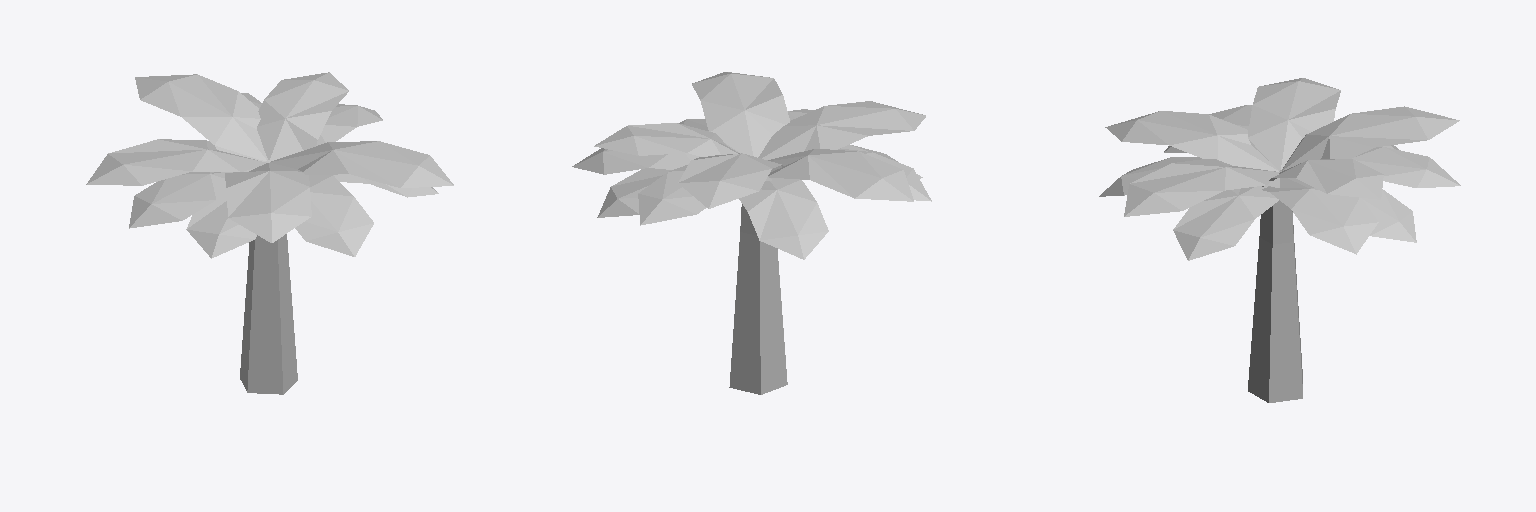
Rendered from tree.obj.
3 renders of one model, left to right at view 1: azimuth 30°, elevation 25°; view 2: azimuth 150°, elevation 25°; view 3: azimuth 270°, elevation 25°, orthographic.
Visible parts, largest first — view 1: initialShadingGroup polySurface36 polySurface229 polySurface344 , initialShadingGroup polySurface335 polySurface1 polySurface371, initialShadingGroup polySurface335 polySurface1 polySurface374, initialShadingGroup polySurface335 polySurface1 polySurface370, initialShadingGroup polySurface335 polySurface1 polySurface373, initialShadingGroup polySurface335 polySurface1 polySurface372, initialShadingGroup polySurface335 polySurface1 polySurface362, initialShadingGroup polySurface335 polySurface1 polySurface357, initialShadingGroup polySurface335 polySurface1 polySurface377, initialShadingGroup polySurface335 polySurface1 polySurface355, initialShadingGroup polySurface335 polySurface1 polySurface376; view 2: initialShadingGroup polySurface36 polySurface229 polySurface344 , initialShadingGroup polySurface335 polySurface1 polySurface374, initialShadingGroup polySurface335 polySurface1 polySurface373, initialShadingGroup polySurface335 polySurface1 polySurface372, initialShadingGroup polySurface335 polySurface1 polySurface378, initialShadingGroup polySurface335 polySurface1 polySurface371, initialShadingGroup polySurface335 polySurface1 polySurface370, initialShadingGroup polySurface335 polySurface1 polySurface356, initialShadingGroup polySurface335 polySurface1 polySurface355, initialShadingGroup polySurface335 polySurface1 polySurface375, initialShadingGroup polySurface335 polySurface1 polySurface357; view 3: initialShadingGroup polySurface36 polySurface229 polySurface344 , initialShadingGroup polySurface335 polySurface1 polySurface372, initialShadingGroup polySurface335 polySurface1 polySurface371, initialShadingGroup polySurface335 polySurface1 polySurface373, initialShadingGroup polySurface335 polySurface1 polySurface374, initialShadingGroup polySurface335 polySurface1 polySurface376, initialShadingGroup polySurface335 polySurface1 polySurface355, initialShadingGroup polySurface335 polySurface1 polySurface370, initialShadingGroup polySurface335 polySurface1 polySurface356, initialShadingGroup polySurface335 polySurface1 polySurface375, initialShadingGroup polySurface335 polySurface1 polySurface362, initialShadingGroup polySurface335 polySurface1 polySurface357.
Boxes of the visible parts, x1,y1,x2,y2 form: initialShadingGroup polySurface36 polySurface229 polySurface344 : [240, 234, 297, 394]; initialShadingGroup polySurface335 polySurface1 polySurface371: [135, 74, 266, 161]; initialShadingGroup polySurface335 polySurface1 polySurface374: [270, 141, 453, 187]; initialShadingGroup polySurface335 polySurface1 polySurface370: [257, 72, 348, 160]; initialShadingGroup polySurface335 polySurface1 polySurface373: [225, 163, 311, 242]; initialShadingGroup polySurface335 polySurface1 polySurface372: [86, 139, 265, 185]; initialShadingGroup polySurface335 polySurface1 polySurface362: [295, 175, 373, 256]; initialShadingGroup polySurface335 polySurface1 polySurface357: [129, 172, 232, 228]; initialShadingGroup polySurface335 polySurface1 polySurface377: [186, 197, 256, 258]; initialShadingGroup polySurface335 polySurface1 polySurface355: [316, 104, 382, 145]; initialShadingGroup polySurface335 polySurface1 polySurface376: [334, 174, 438, 197]; initialShadingGroup polySurface36 polySurface229 polySurface344 : [729, 204, 787, 394]; initialShadingGroup polySurface335 polySurface1 polySurface374: [692, 72, 789, 157]; initialShadingGroup polySurface335 polySurface1 polySurface373: [758, 101, 925, 159]; initialShadingGroup polySurface335 polySurface1 polySurface372: [768, 149, 913, 201]; initialShadingGroup polySurface335 polySurface1 polySurface378: [739, 178, 828, 259]; initialShadingGroup polySurface335 polySurface1 polySurface371: [678, 153, 783, 208]; initialShadingGroup polySurface335 polySurface1 polySurface370: [594, 123, 737, 156]; initialShadingGroup polySurface335 polySurface1 polySurface356: [638, 165, 771, 225]; initialShadingGroup polySurface335 polySurface1 polySurface355: [572, 148, 699, 174]; initialShadingGroup polySurface335 polySurface1 polySurface375: [597, 168, 671, 217]; initialShadingGroup polySurface335 polySurface1 polySurface357: [838, 148, 931, 201]; initialShadingGroup polySurface36 polySurface229 polySurface344 : [1248, 200, 1302, 402]; initialShadingGroup polySurface335 polySurface1 polySurface372: [1248, 78, 1340, 170]; initialShadingGroup polySurface335 polySurface1 polySurface371: [1282, 106, 1459, 170]; initialShadingGroup polySurface335 polySurface1 polySurface373: [1105, 111, 1278, 171]; initialShadingGroup polySurface335 polySurface1 polySurface374: [1124, 159, 1279, 216]; initialShadingGroup polySurface335 polySurface1 polySurface376: [1173, 185, 1278, 260]; initialShadingGroup polySurface335 polySurface1 polySurface355: [1262, 178, 1378, 254]; initialShadingGroup polySurface335 polySurface1 polySurface370: [1262, 159, 1383, 199]; initialShadingGroup polySurface335 polySurface1 polySurface356: [1279, 147, 1460, 187]; initialShadingGroup polySurface335 polySurface1 polySurface375: [1362, 189, 1416, 242]; initialShadingGroup polySurface335 polySurface1 polySurface362: [1099, 157, 1201, 196]; initialShadingGroup polySurface335 polySurface1 polySurface357: [1209, 105, 1251, 129].
Size of the model in its own units: 39.57 by 30.99 by 39.39.